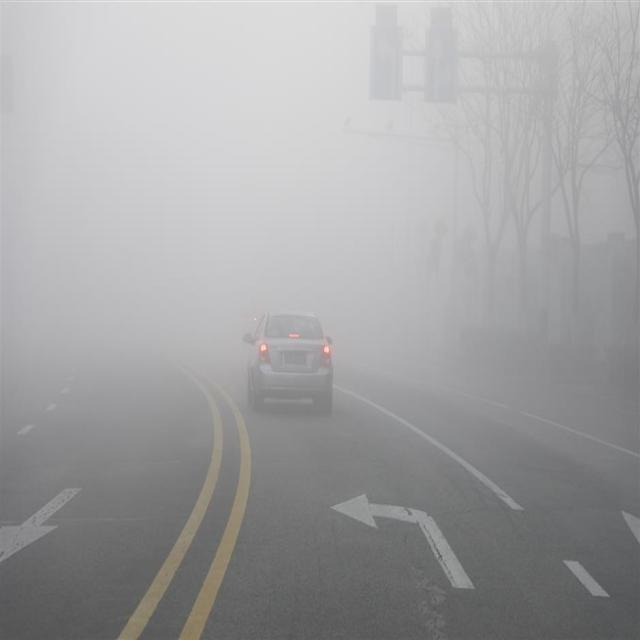Car: (234, 294, 345, 429)
